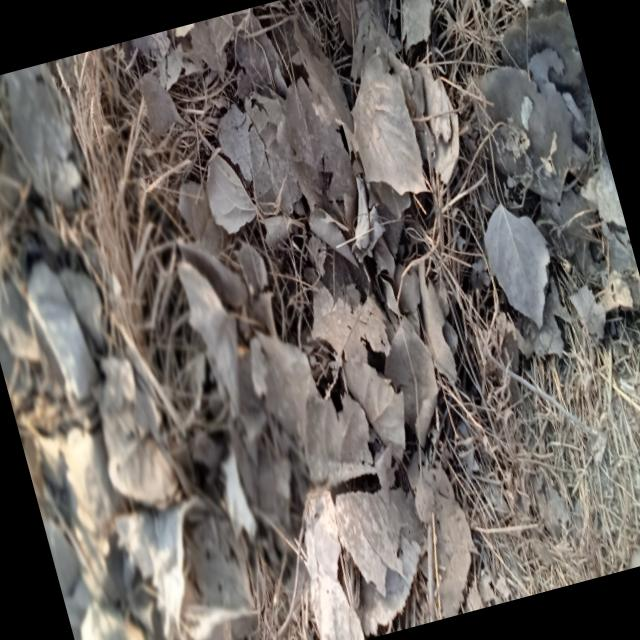paper: (312, 20, 474, 226), (293, 457, 447, 640), (294, 240, 419, 460), (233, 300, 369, 487), (66, 334, 192, 529), (469, 171, 574, 333), (271, 66, 367, 218), (500, 0, 600, 144)
